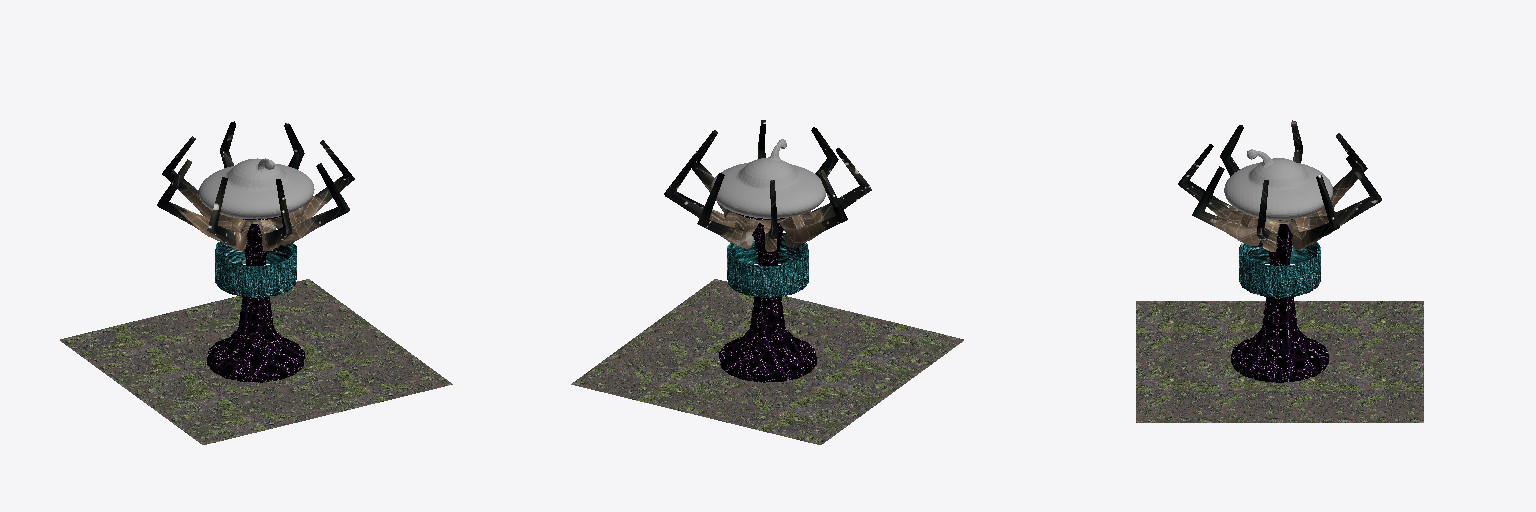
3 views of the same model, side by side, from view 1: azimuth 30°, elevation 25°; view 2: azimuth 150°, elevation 25°; view 3: azimuth 270°, elevation 25° (orthographic).
Parts seen in each view (by area): view 1: Plane, Cube.002_Cube.003, Cube, Ufo_Cube.001, Cube.001_Cube.002; view 2: Plane, Cube.002_Cube.003, Cube, Ufo_Cube.001, Cube.001_Cube.002; view 3: Plane, Cube.002_Cube.003, Cube, Ufo_Cube.001, Cube.001_Cube.002.
Boxes of the visible parts, box(x1,y1,x2,y2) form: Plane: box(60, 279, 452, 444); Cube.002_Cube.003: box(157, 121, 354, 251); Cube: box(207, 216, 304, 382); Ufo_Cube.001: box(199, 158, 314, 218); Cube.001_Cube.002: box(215, 242, 296, 297); Plane: box(571, 279, 963, 444); Cube.002_Cube.003: box(664, 120, 871, 251); Cube: box(719, 213, 816, 382); Ufo_Cube.001: box(711, 139, 825, 218); Cube.001_Cube.002: box(727, 233, 808, 297); Plane: box(1136, 301, 1423, 422); Cube.002_Cube.003: box(1178, 120, 1381, 251); Cube: box(1231, 219, 1328, 382); Ufo_Cube.001: box(1224, 149, 1332, 219); Cube.001_Cube.002: box(1239, 241, 1320, 297).
Bounding box in the file's own units: 15.97 × 12.94 × 15.97.
6 materials, 4 textured.